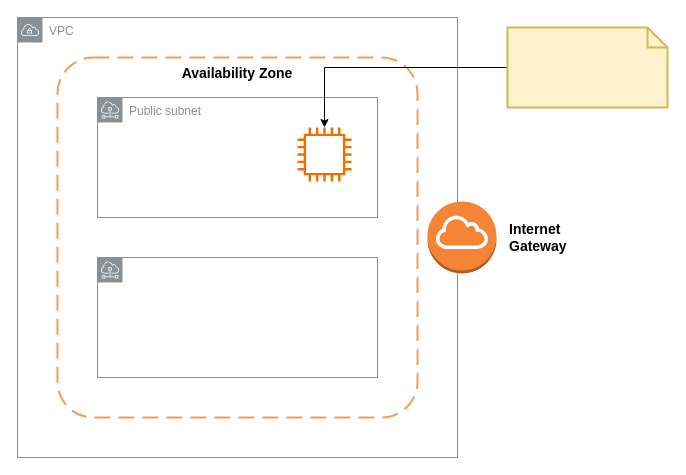
Some shapes in this 686 by 475 pixel diagram are drawn without their labels. Here are the shapes that lost their labels. From the top down, the centre of each, then its label:
point (587, 67): This EC2 instance has either a public or elastic IP address.
point (237, 317): Private subnet
